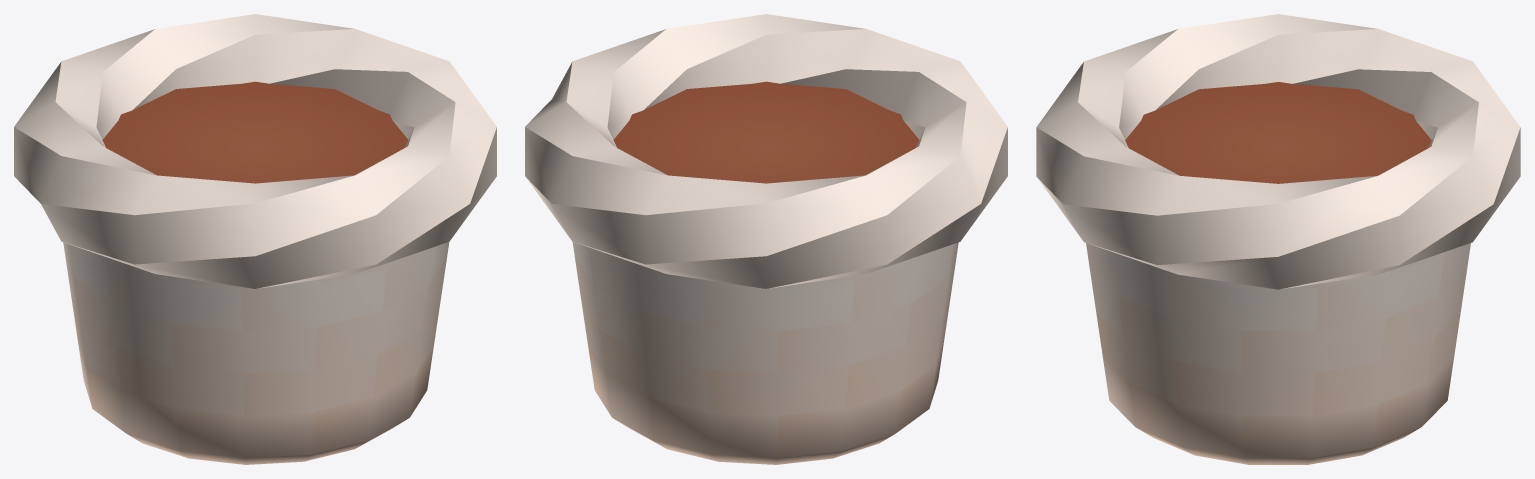
File: Pot D Large.glb
3 views of the same model, side by side, from view 1: azimuth 30°, elevation 25°; view 2: azimuth 150°, elevation 25°; view 3: azimuth 270°, elevation 25° (orthographic).
Visible parts, largest first — view 1: Pot_D_large; view 2: Pot_D_large; view 3: Pot_D_large.
Boxes of the visible parts, box(x1,y1,x2,y2) form: Pot_D_large: box(14, 14, 496, 464); Pot_D_large: box(525, 14, 1007, 464); Pot_D_large: box(1036, 14, 1520, 464).
Size of the model in its own units: 1.5 by 1 by 1.46.
Materials: 1 (1 with a texture image).
